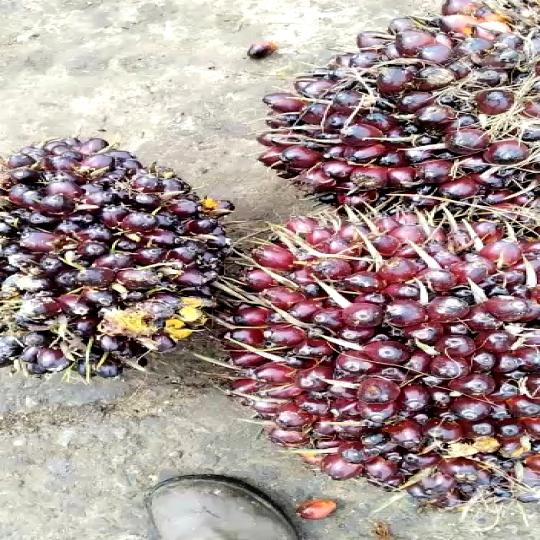kurang masak: (227, 209, 540, 525), (1, 132, 246, 390), (234, 4, 540, 198)
